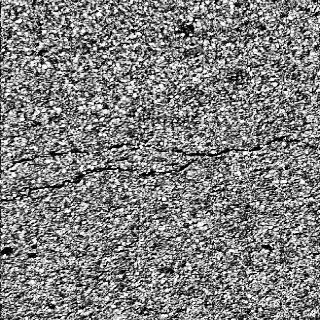crack: (0, 137, 306, 197)
